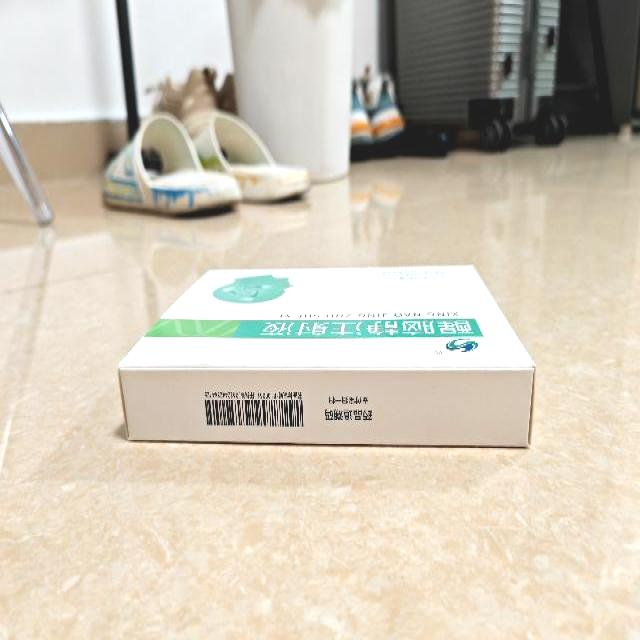box: (119, 264, 535, 444)
